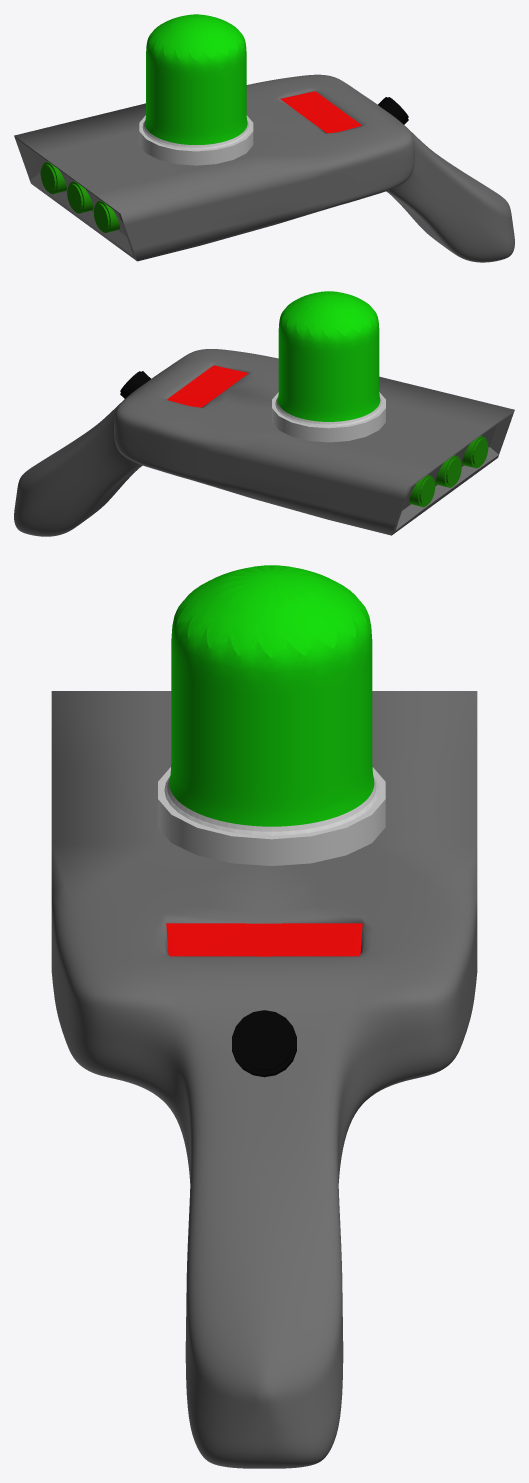
Rendered from portal gun.fbx.
3 views of the same model, one above another, from view 1: azimuth 30°, elevation 25°; view 2: azimuth 150°, elevation 25°; view 3: azimuth 270°, elevation 25° (orthographic). The views are drawn at different scales.
Visible parts, largest first — view 1: Box001, Cylinder001, Cylinder003, Cylinder004, Cylinder005, Cylinder006; view 2: Box001, Cylinder001, Cylinder005, Cylinder003, Cylinder004, Cylinder006; view 3: Box001, Cylinder001, Cylinder006.
Boxes of the visible parts, x1,y1,x2,y2 form: Box001: [14, 74, 514, 262]; Cylinder001: [139, 14, 253, 165]; Cylinder003: [67, 181, 93, 213]; Cylinder004: [40, 162, 66, 194]; Cylinder005: [94, 200, 119, 232]; Cylinder006: [378, 97, 408, 124]; Box001: [14, 349, 514, 536]; Cylinder001: [272, 291, 385, 442]; Cylinder005: [462, 436, 488, 468]; Cylinder003: [435, 455, 461, 487]; Cylinder004: [409, 475, 435, 507]; Cylinder006: [120, 371, 150, 398]; Box001: [51, 691, 477, 1468]; Cylinder001: [158, 565, 385, 865]; Cylinder006: [232, 1010, 296, 1077].
Bounding box in the file's own units: 83.76 × 54.72 × 34.92.
